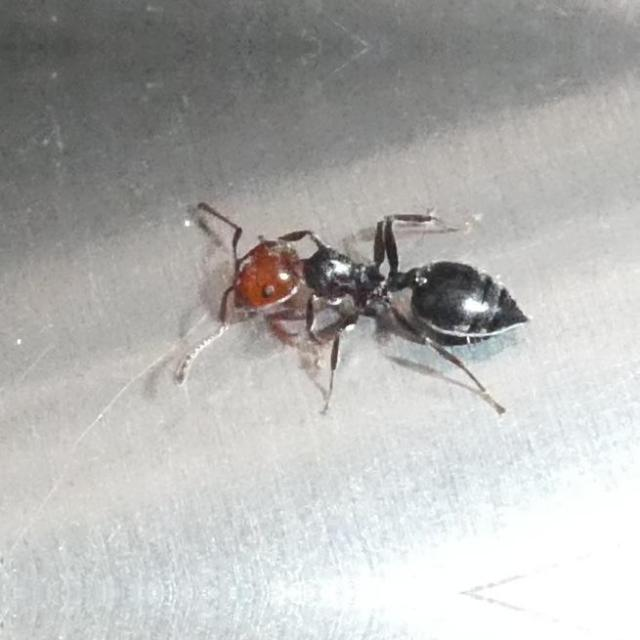Crematogaster: (193, 212, 514, 368)
